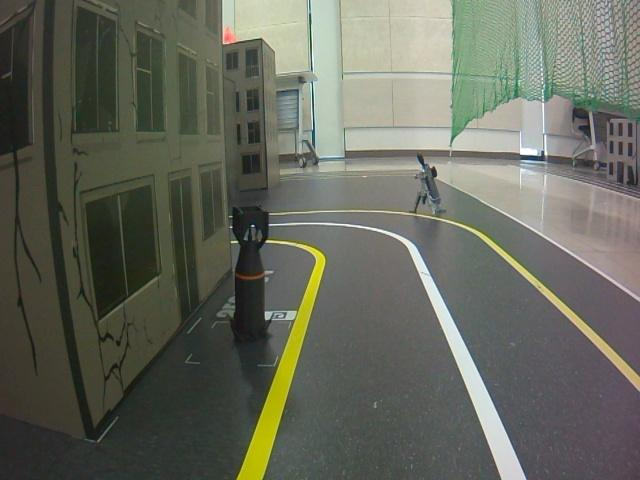Missile: (225, 201, 273, 345)
Mortar: (407, 149, 447, 222)
